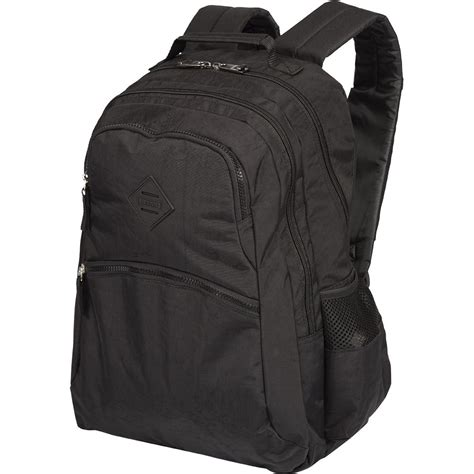nylon: (69, 3, 404, 474)
